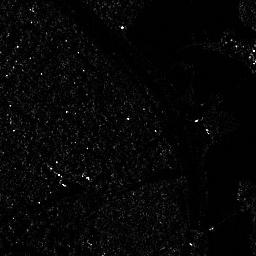ship: (221, 32, 256, 65)
